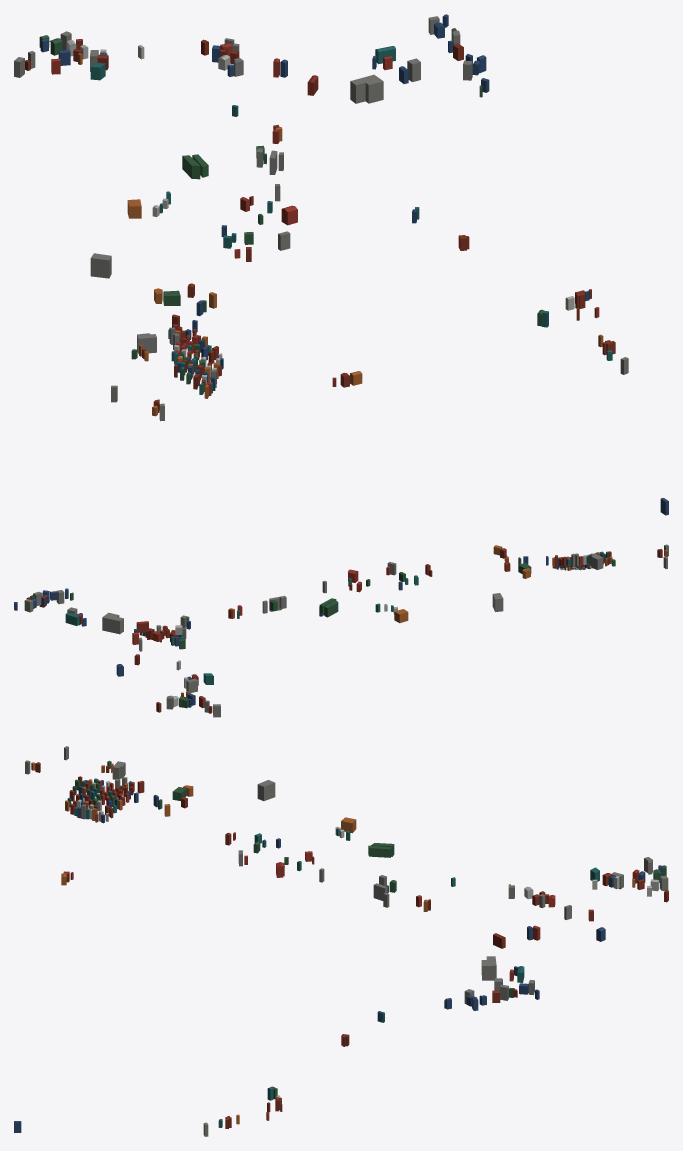
File: near-15-27367-14861.27b4b3db.glb
3 views of the same model, one above another, from view 1: azimuth 30°, elevation 25°; view 2: azimuth 150°, elevation 25°; view 3: azimuth 270°, elevation 25° (orthographic). The views are drawn at different scales.
Bounding box in the file's own units: 1024 × 392 × 1154.
